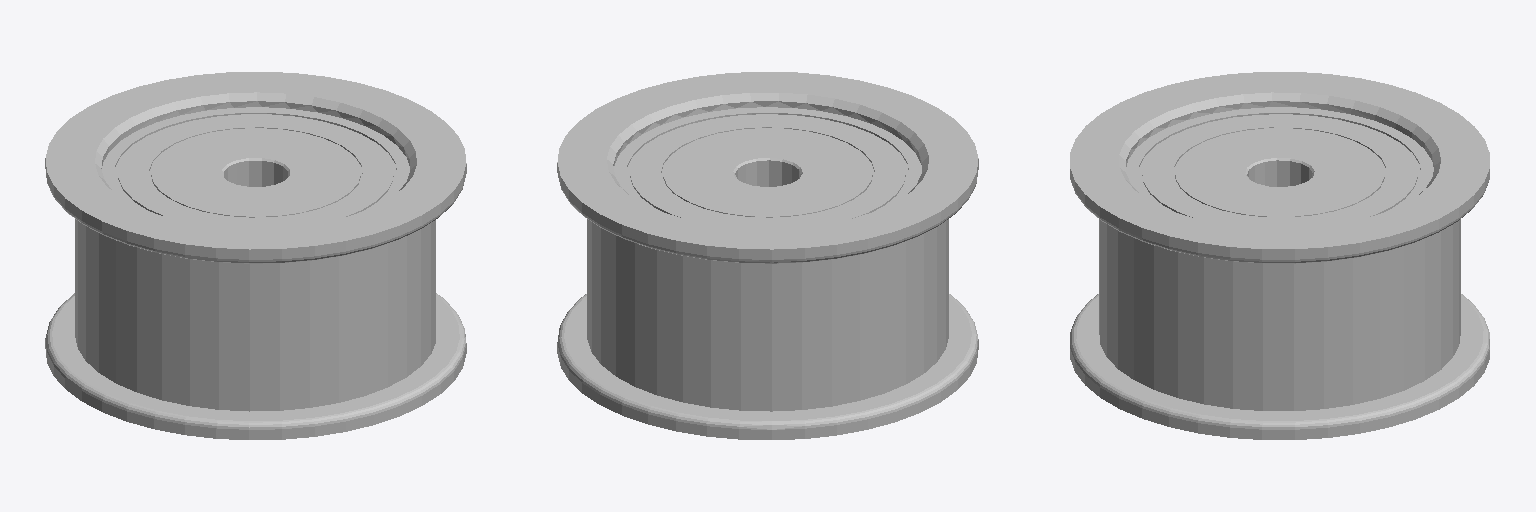
The model's file is Ролик опорный.obj.
The picture shows the model from 3 angles: view 1: azimuth 30°, elevation 25°; view 2: azimuth 150°, elevation 25°; view 3: azimuth 270°, elevation 25°; orthographic projection.
Visible parts, largest first — view 1: Ролик_опорный; view 2: Ролик_опорный; view 3: Ролик_опорный.
Boxes of the visible parts, x1,y1,x2,y2 form: Ролик_опорный: [45, 72, 466, 439]; Ролик_опорный: [557, 72, 978, 439]; Ролик_опорный: [1070, 72, 1489, 439].
Size of the model in its own units: 63.83 by 32 by 63.83.